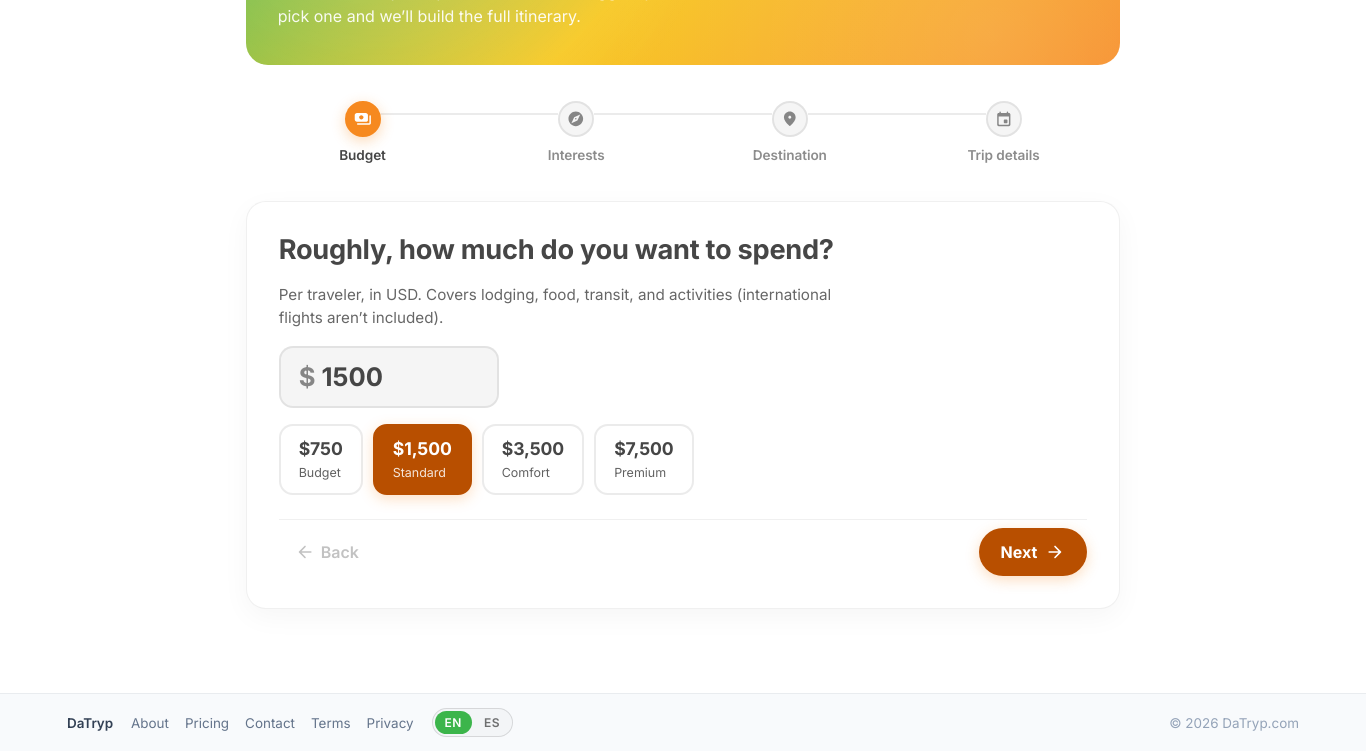
Test case: AiTripBuilderPage — wizard › applies a budget preset to the input
(page scrolled)
Click the text "$3,500". click: (533,449)
box: [502,436,564,462]
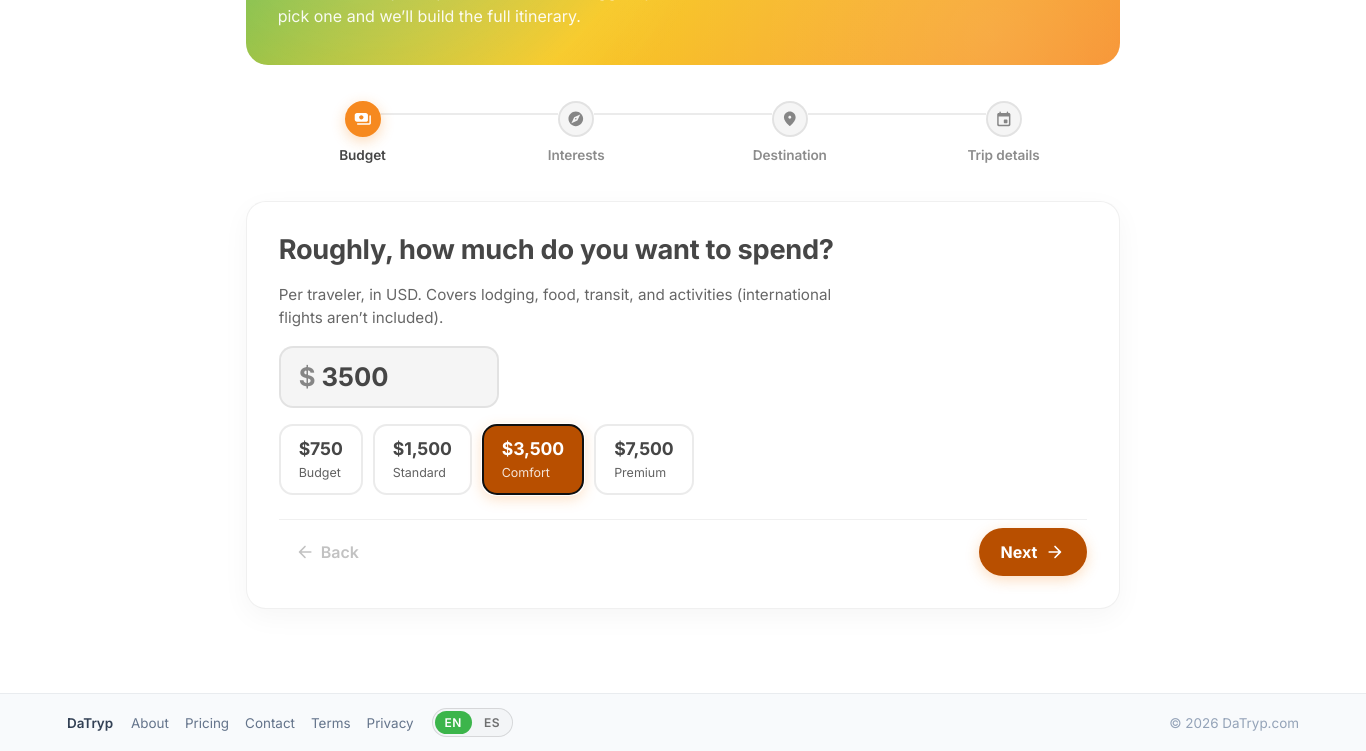
Now the number field holds "3500", box [321,358,479,396]
